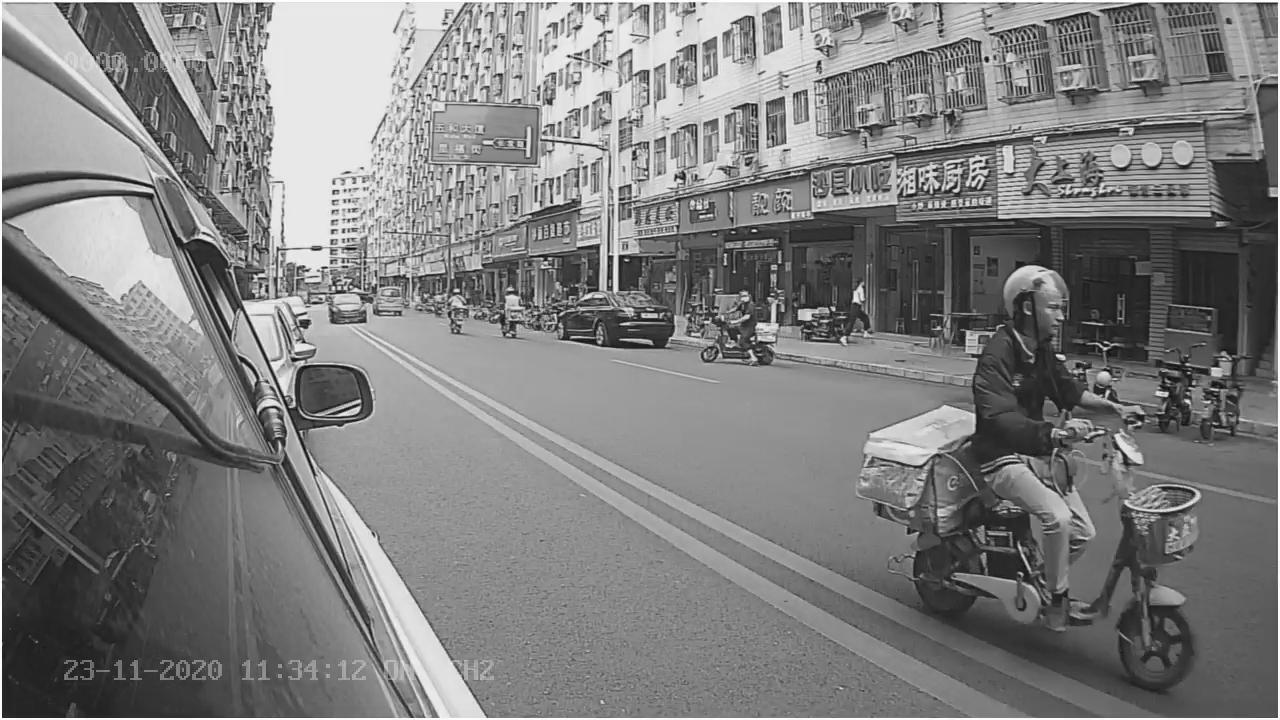person: (975, 262, 1132, 431)
